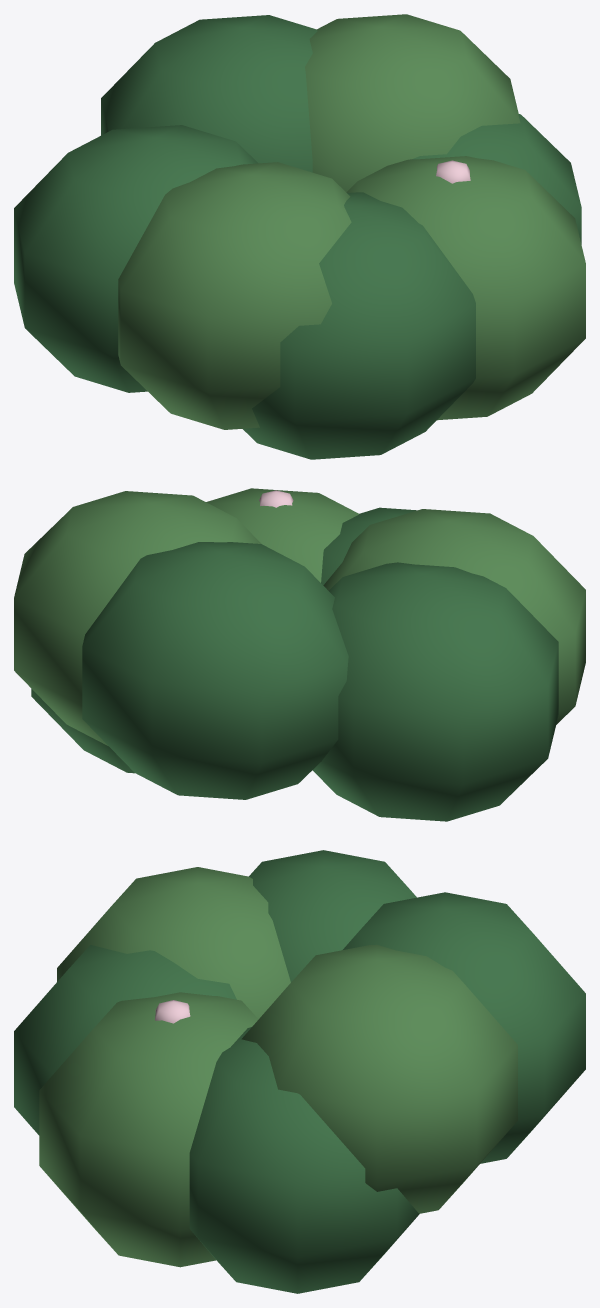
Rendered from bush.glb.
3 views of the same model, one above another, from view 1: azimuth 30°, elevation 25°; view 2: azimuth 150°, elevation 25°; view 3: azimuth 270°, elevation 25° (orthographic). The views are drawn at different scales.
Visible parts, largest first — view 1: Clump1, Clump0, Blossom0; view 2: Clump0, Clump1, Blossom0; view 3: Clump1, Clump0, Blossom0.
Part boxes in pixels (x1,y1,x2,y2): Clump1: [118, 14, 585, 429]; Clump0: [14, 15, 581, 459]; Blossom0: [436, 160, 470, 183]; Clump0: [31, 507, 558, 821]; Clump1: [14, 488, 585, 745]; Blossom0: [259, 490, 293, 507]; Clump1: [39, 867, 517, 1267]; Clump0: [14, 850, 585, 1293]; Blossom0: [155, 1000, 190, 1023].
Size of the model in its own units: 1.48 by 0.8 by 1.35.
